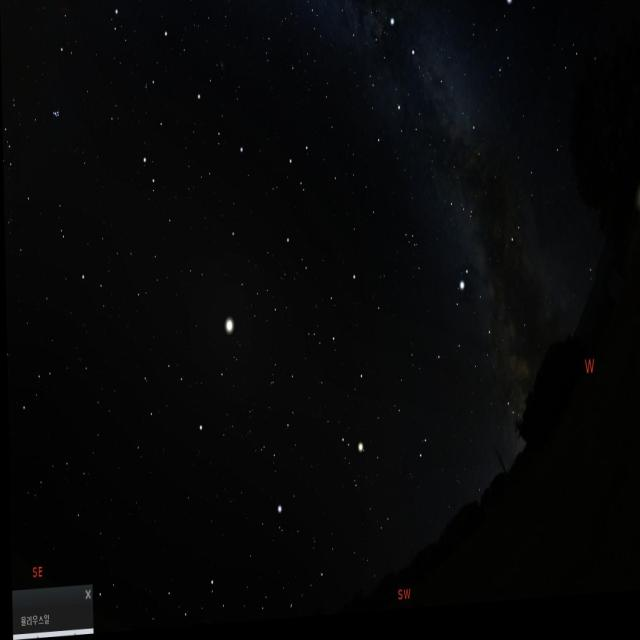aquila: (431, 270, 522, 428)
cygnus: (382, 0, 478, 154)
lyra: (487, 0, 518, 75)
pleiades: (51, 104, 63, 129)
taurus: (1, 85, 64, 216)
